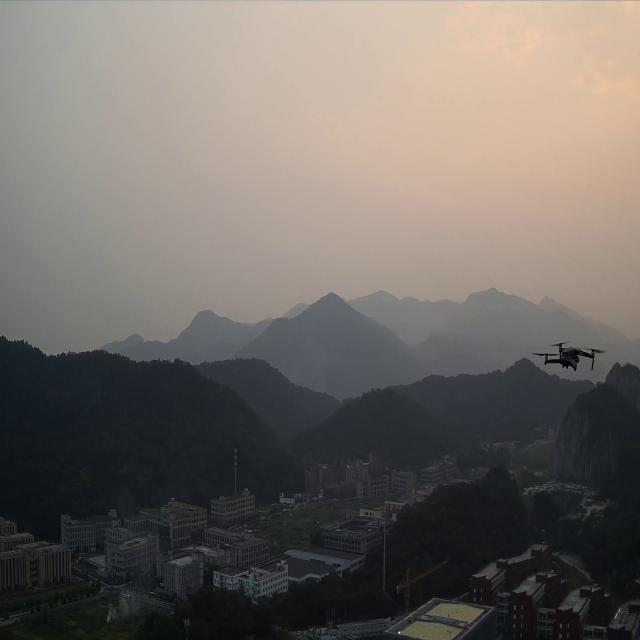UAV: (531, 340, 608, 372)
